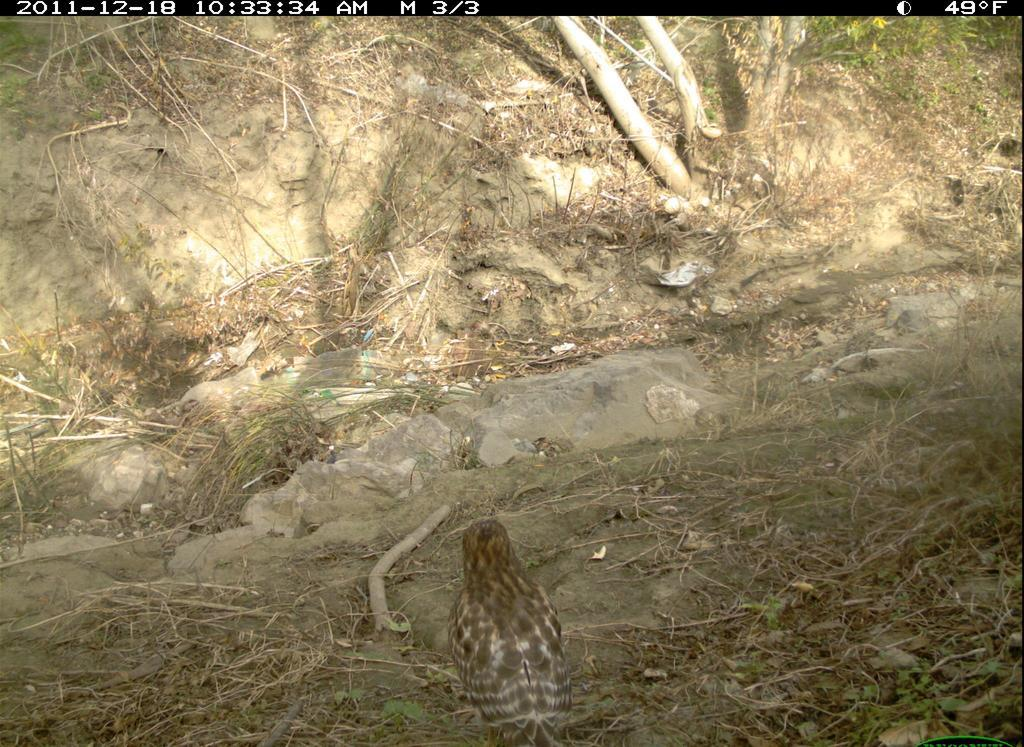bird: (432, 488, 594, 745)
